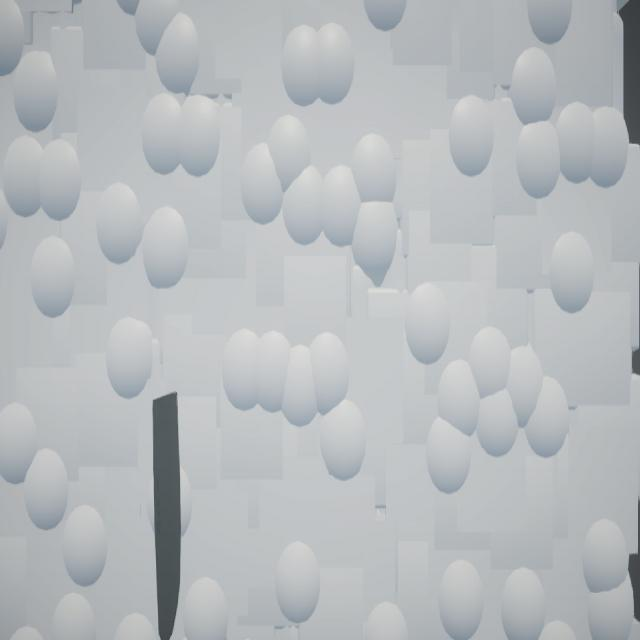top_knife: (154, 392, 182, 640)
